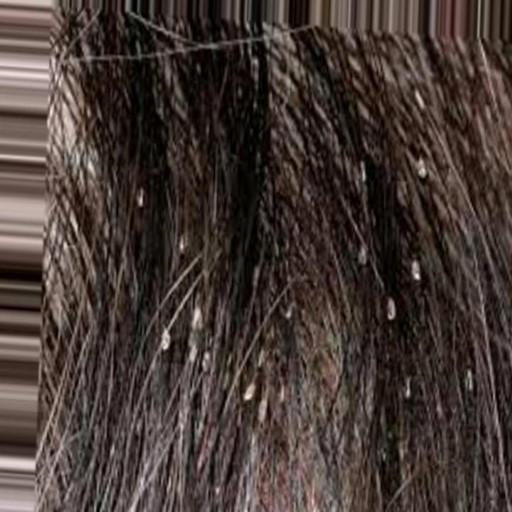Head_Lice: (190, 304, 218, 341), (187, 344, 216, 377), (457, 367, 483, 396), (351, 236, 373, 268), (398, 375, 423, 400), (380, 293, 399, 325), (278, 299, 301, 324), (408, 87, 429, 113), (407, 257, 428, 282), (354, 164, 373, 191), (156, 329, 173, 355), (173, 234, 195, 254), (260, 390, 272, 426), (134, 186, 151, 210), (416, 159, 432, 181), (243, 381, 257, 403)
